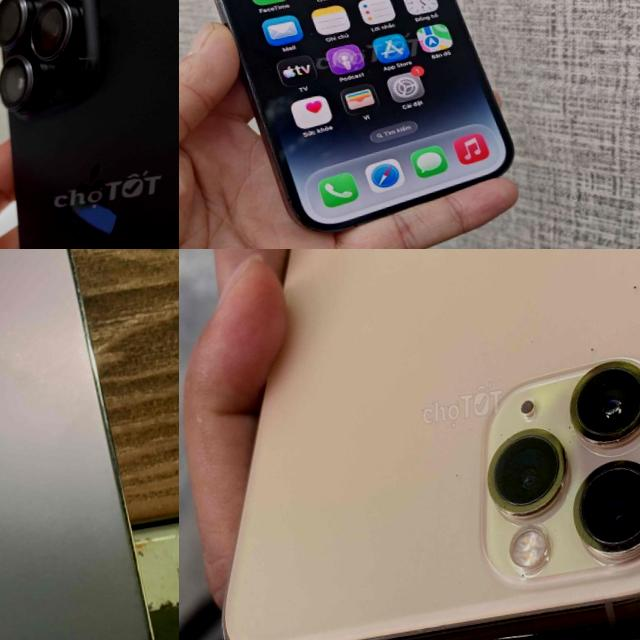scratch: (470, 405, 580, 513), (564, 349, 640, 446), (611, 263, 640, 296), (576, 338, 604, 358)
